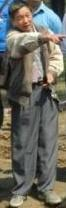boots: (8, 193, 27, 207), (0, 124, 11, 132)
